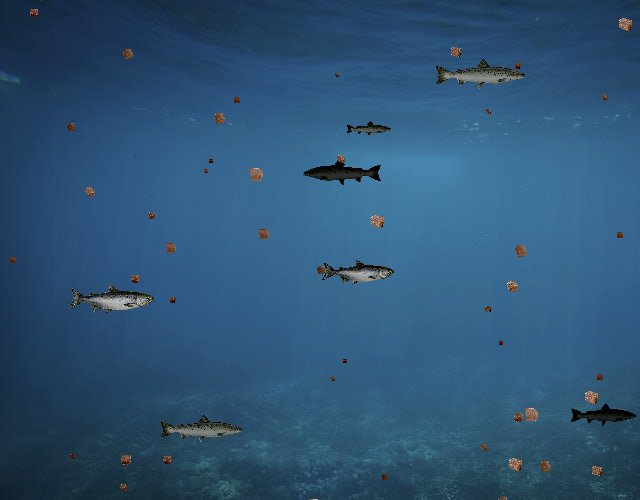Fish: (433, 58, 527, 91), (158, 413, 244, 444), (68, 284, 154, 315), (302, 158, 383, 187), (321, 259, 394, 286), (570, 402, 638, 426), (345, 120, 392, 137)
Pellet: (508, 238, 534, 264), (500, 274, 525, 299), (78, 181, 100, 203), (480, 302, 494, 316), (200, 166, 210, 176)
